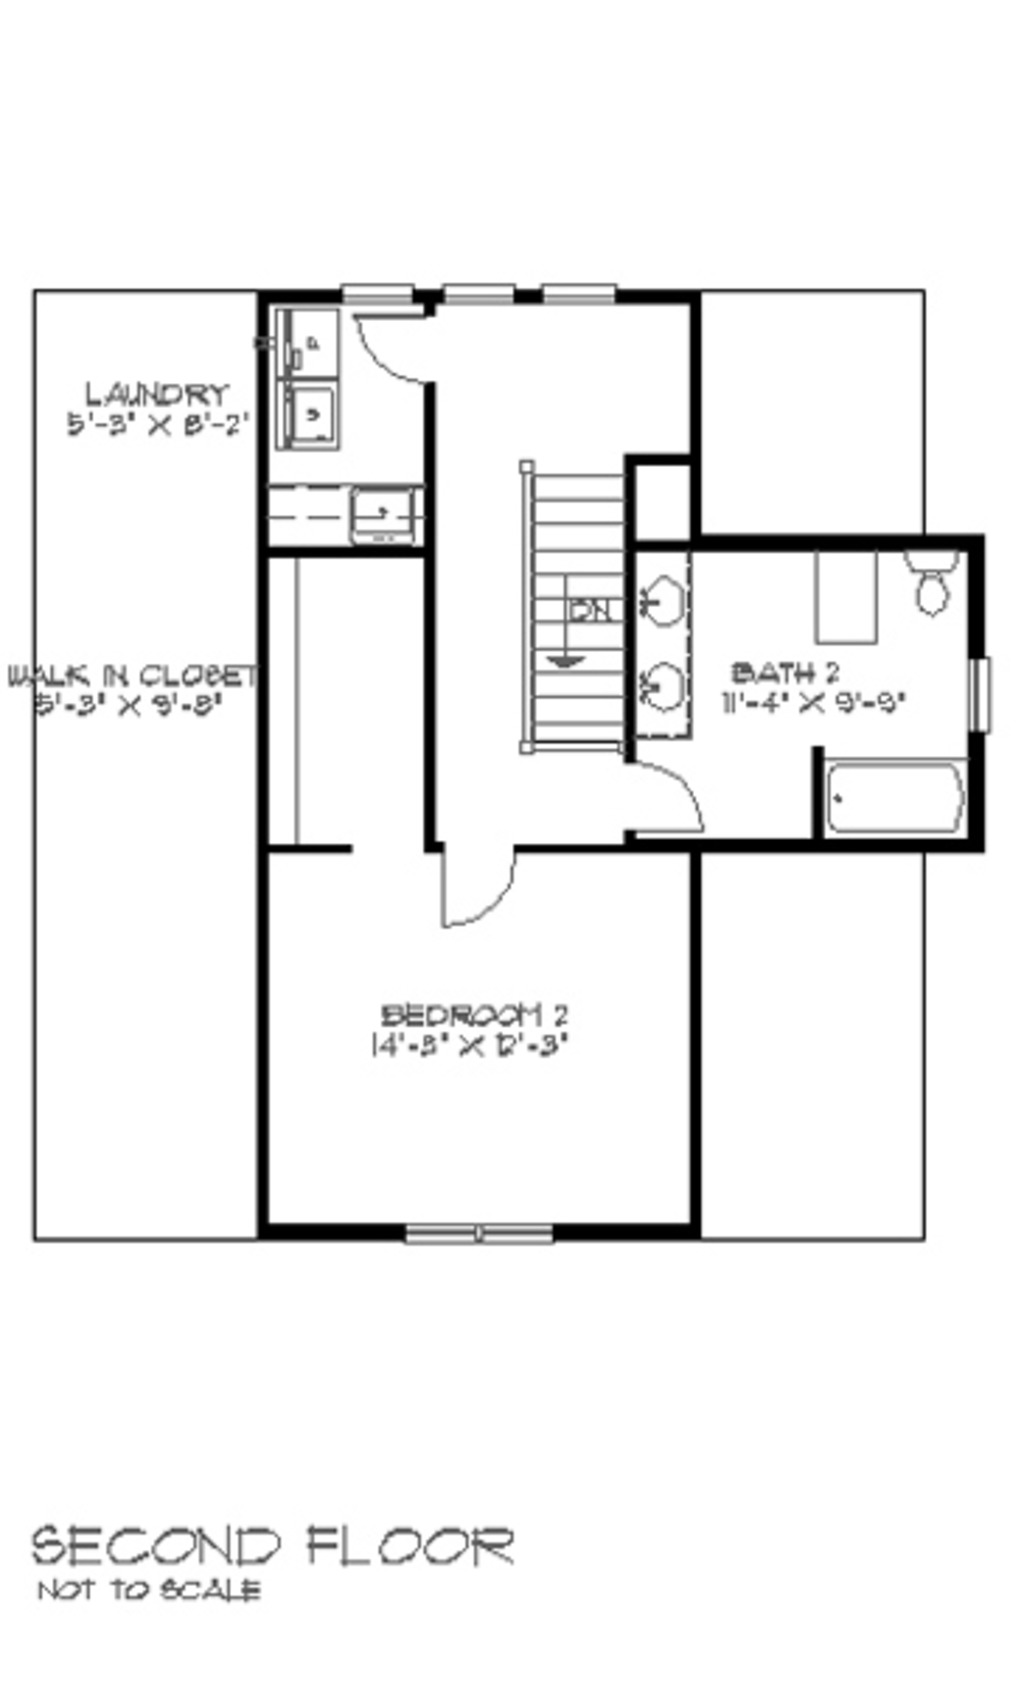door: (415, 829, 546, 942), (351, 315, 451, 410), (630, 756, 720, 835)
large_sink: (894, 541, 964, 620)
small_sink: (630, 554, 706, 748)
stairs: (512, 460, 625, 765)
tub: (810, 738, 971, 843)
twin_sink: (261, 313, 351, 459)
window: (415, 1223, 550, 1248), (546, 276, 625, 313), (346, 284, 425, 319), (433, 284, 517, 315), (955, 661, 989, 738)
